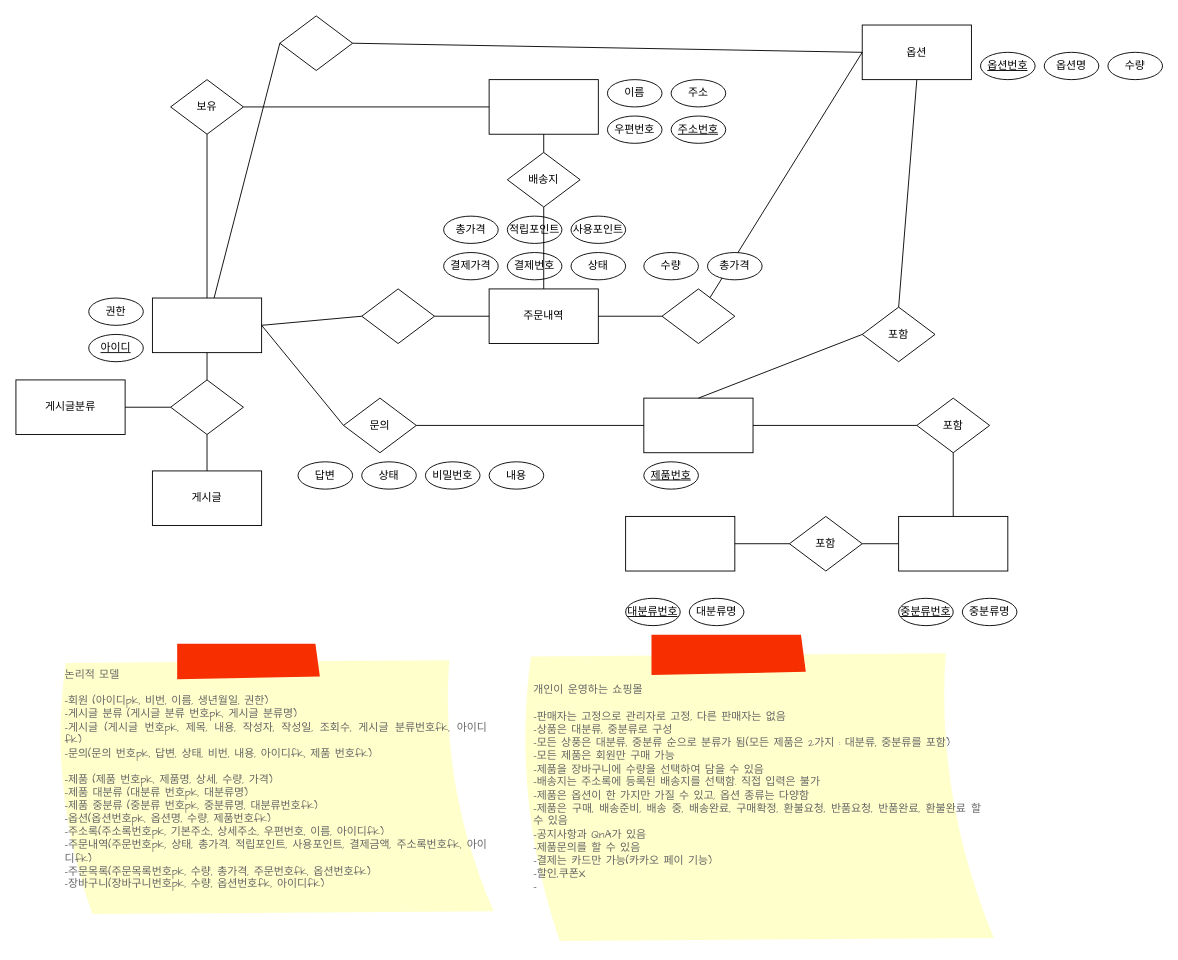
Some shapes in this 1178 by 960 pixel diagram are drawn without their labels. Here are the shapes that lost their labels. From the top down, the box of each, then its label:
(279, 15, 353, 71): 장바구니
(488, 79, 598, 134): 주소록
(152, 297, 262, 353): 회원
(361, 288, 435, 344): 주문
(661, 288, 735, 344): 주문목록
(170, 379, 243, 435): 등록
(643, 397, 753, 453): 제품
(625, 516, 735, 571): 제품 대분류
(898, 516, 1008, 571): 제품 중분류
